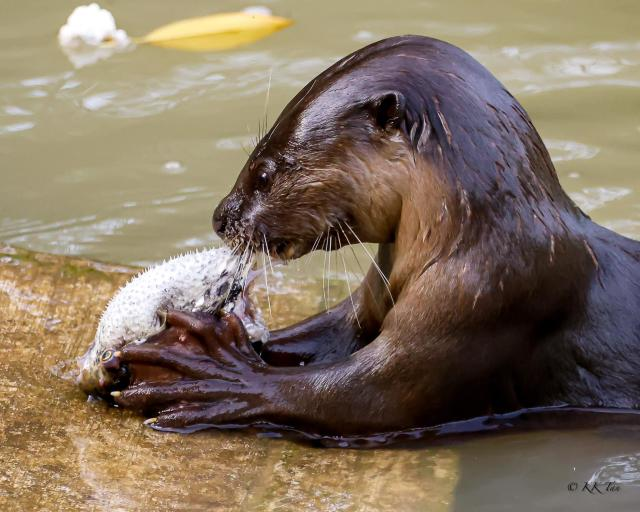otter: (94, 29, 629, 448)
